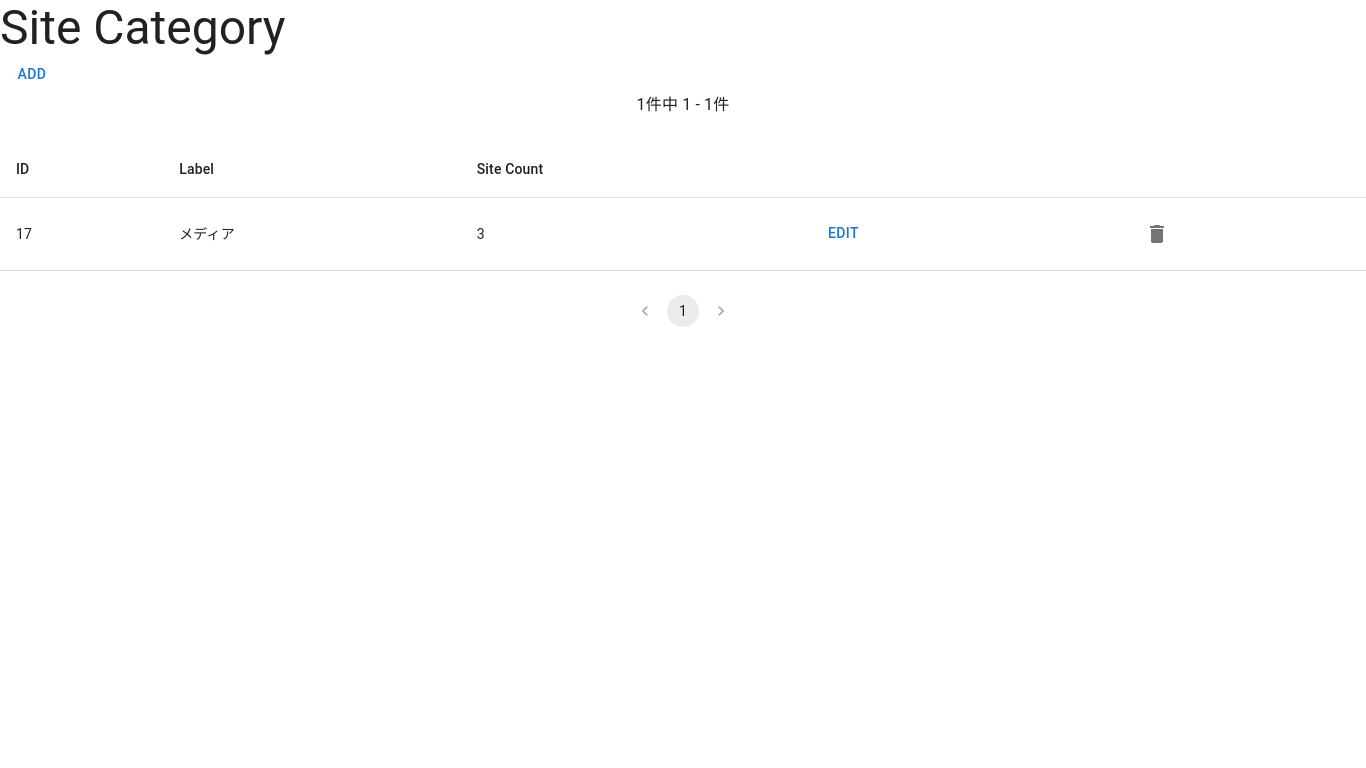
Test: SiteCategories › 削除確認ダイアログでキャンセルボタンをクリックするとダイヤログが閉じる
Click the button named "remove" at (1158, 234), box top-left (1138, 214), bottom-right (1178, 254)
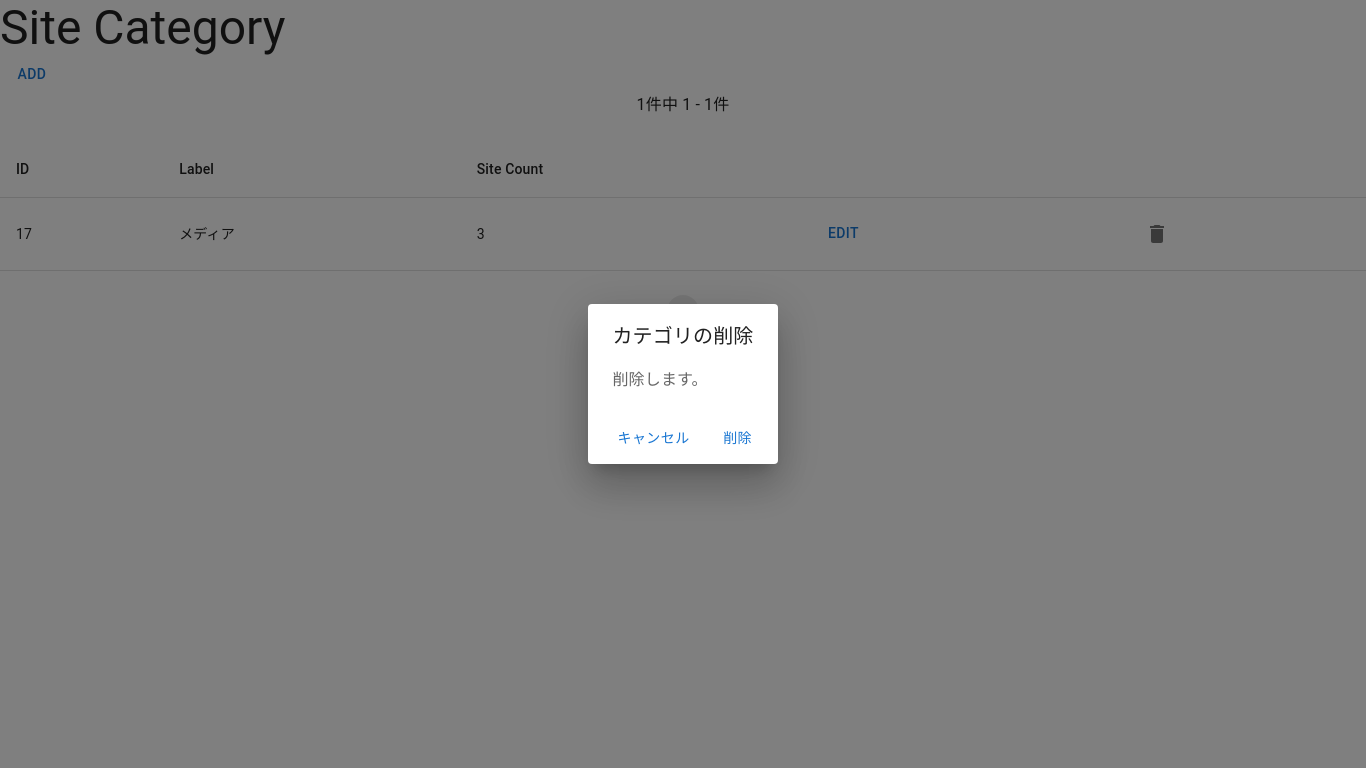
Click the button "キャンセル" at (654, 438), box top-left (610, 420), bottom-right (698, 456)
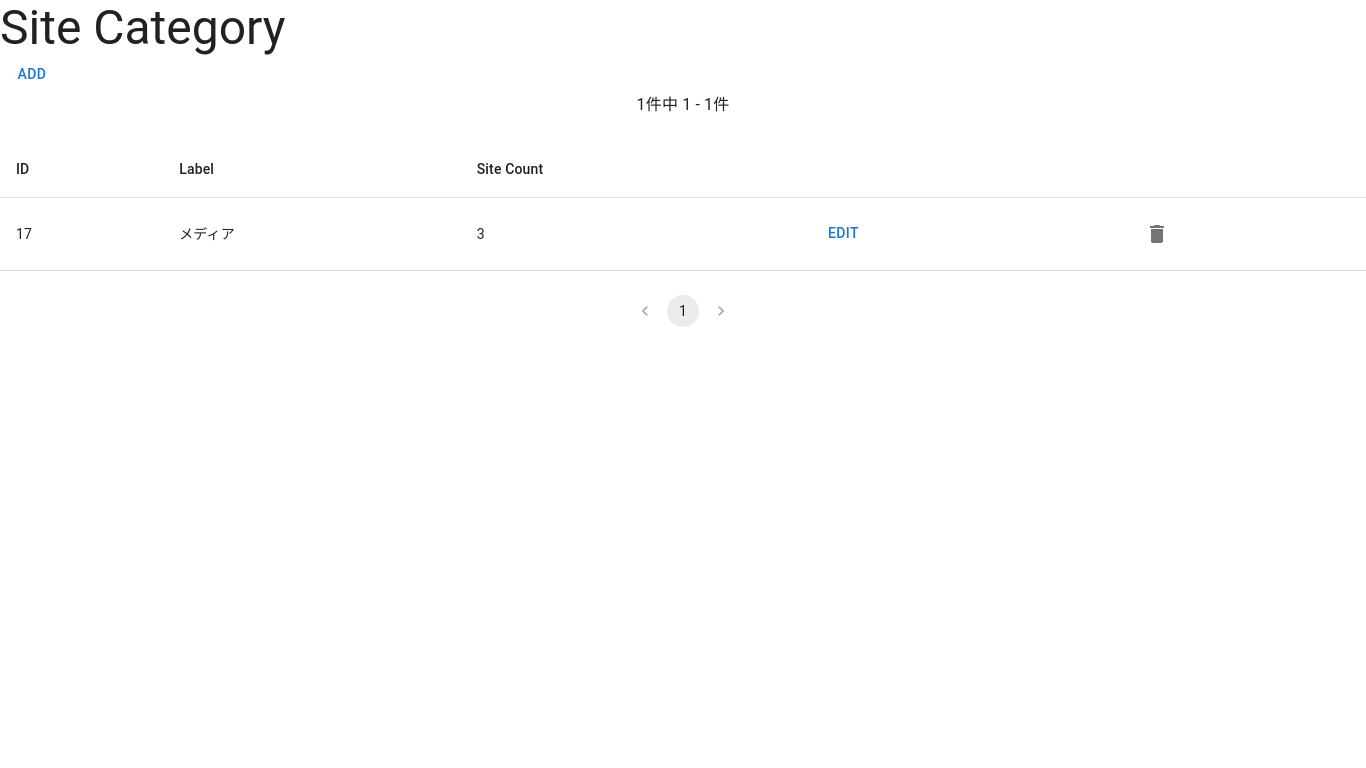
Expected: the heading "カテゴリの削除" is gone
